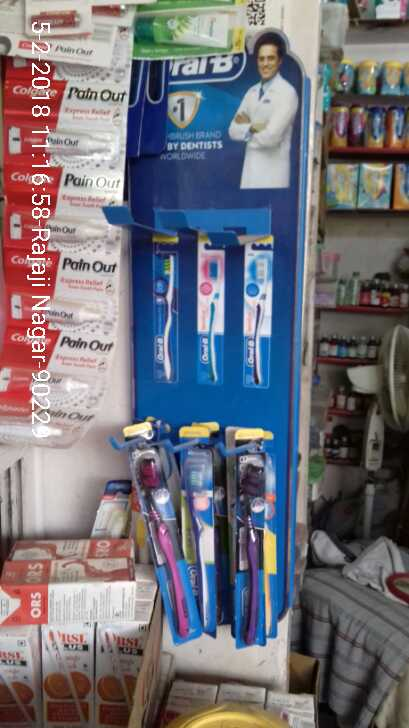oralb: (122, 420, 205, 647), (179, 424, 217, 640), (233, 424, 267, 648)
